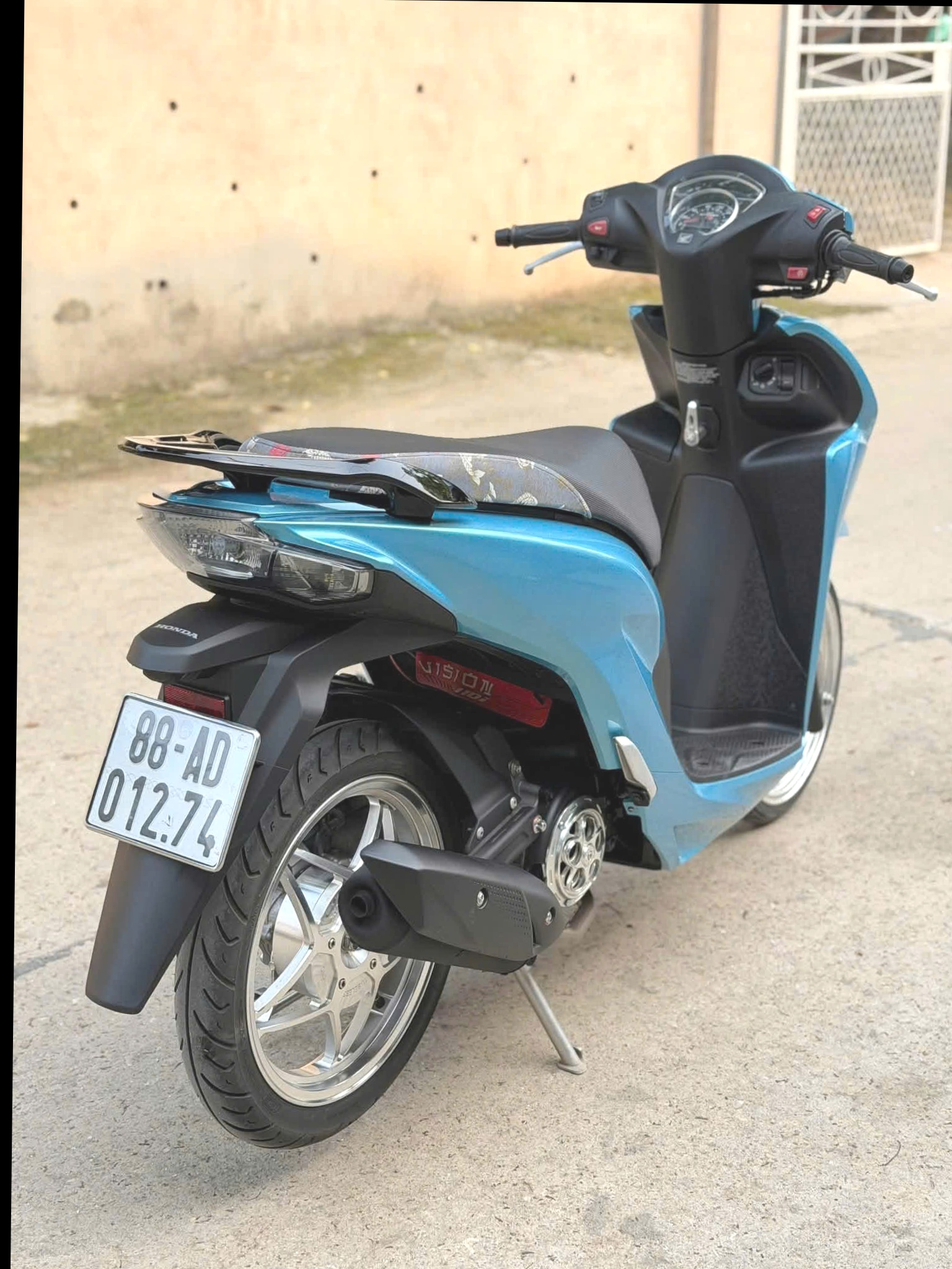Bien-so: (16, 600, 209, 783)
